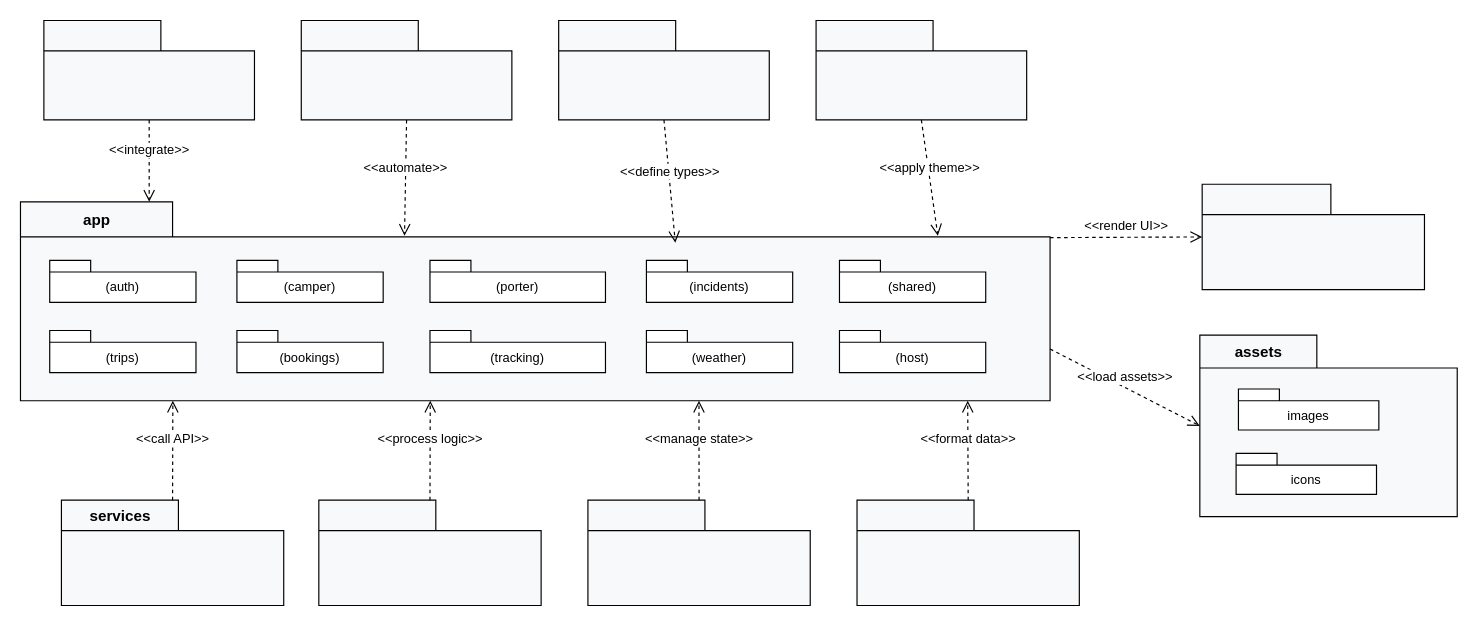
This 1478x626 diagram has some shape labels left out. Here are the shapes that lost their labels. From the top down, the box of each, then its label:
(43, 19, 254, 120): plugins
(300, 19, 512, 120): scripts
(558, 19, 769, 120): types
(815, 19, 1027, 120): constants
(1201, 183, 1424, 290): components
(318, 499, 541, 605): hooks
(587, 499, 810, 605): store
(856, 499, 1079, 605): utils
